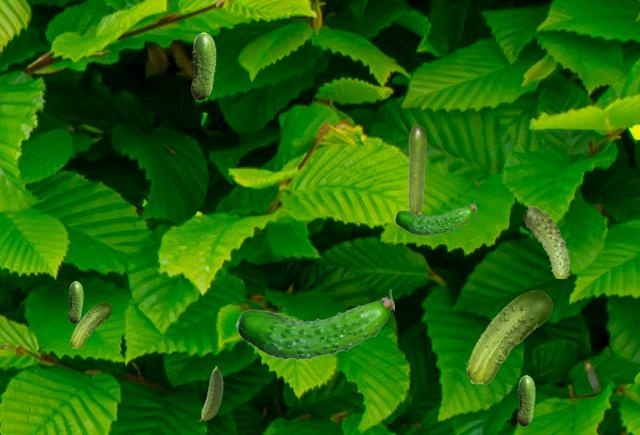cucumber: (235, 289, 393, 360), (466, 290, 551, 383), (523, 206, 569, 277), (394, 200, 475, 235), (70, 302, 111, 347), (191, 32, 215, 99), (408, 125, 425, 214), (198, 366, 222, 420), (517, 375, 534, 425), (68, 281, 82, 322)
